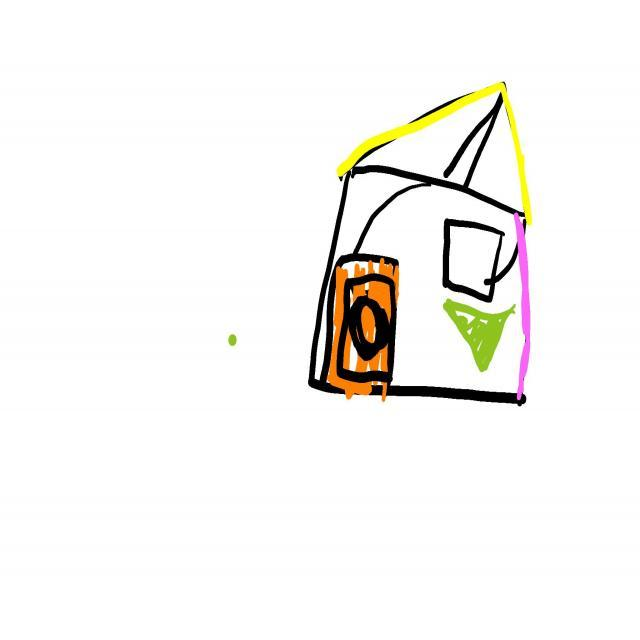door: (328, 255, 399, 400)
house: (310, 83, 533, 405)
roof: (334, 78, 537, 227)
wall: (308, 172, 533, 410)
window: (443, 217, 508, 303)
